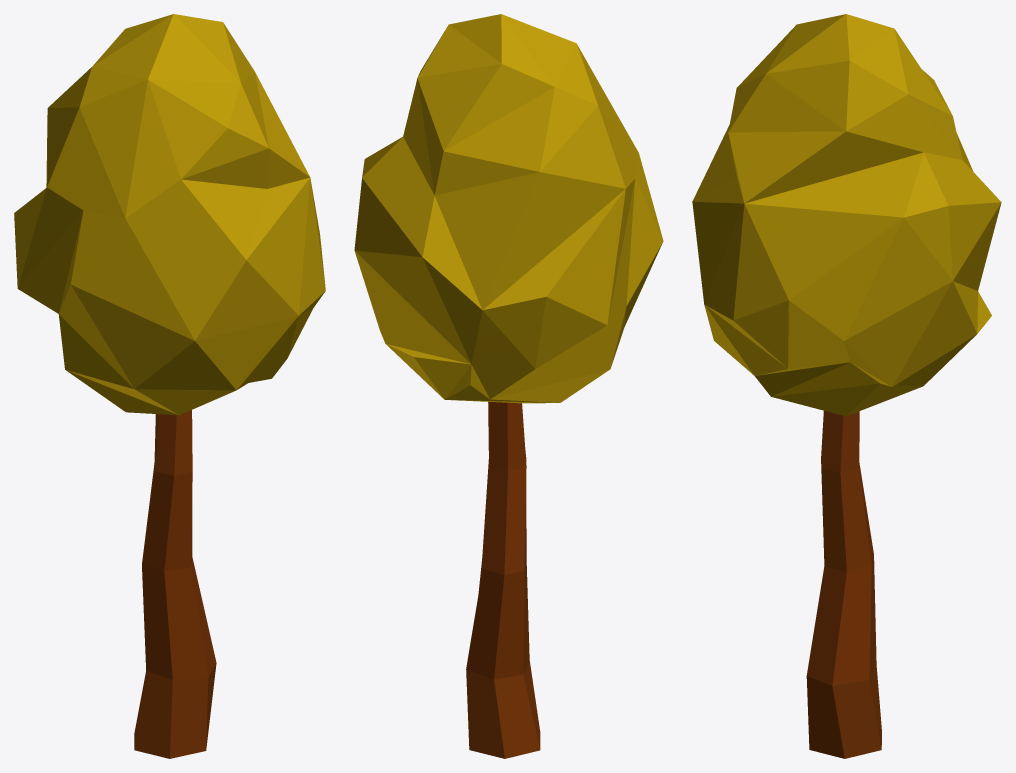
The model's file is Tree_2_Yellow.fbx.
3 renders of one model, left to right at view 1: azimuth 30°, elevation 25°; view 2: azimuth 150°, elevation 25°; view 3: azimuth 270°, elevation 25°, orthographic.
Visible parts, largest first — view 1: pCube1, pCylinder1; view 2: pCube1, pCylinder1; view 3: pCube1, pCylinder1.
Part boxes in pixels (x1,y1,x2,y2): pCube1: (14, 14, 325, 415); pCylinder1: (134, 410, 216, 758); pCube1: (354, 14, 663, 403); pCylinder1: (466, 402, 540, 758); pCube1: (692, 14, 1001, 416); pCylinder1: (806, 411, 881, 758).
Size of the model in its own units: 324 by 857 by 330.
